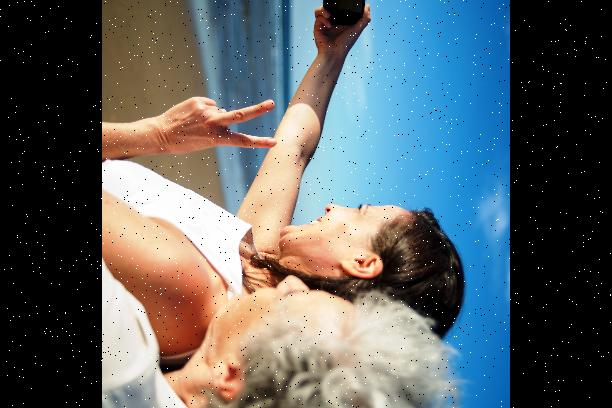Scissors: (156, 91, 283, 154)
